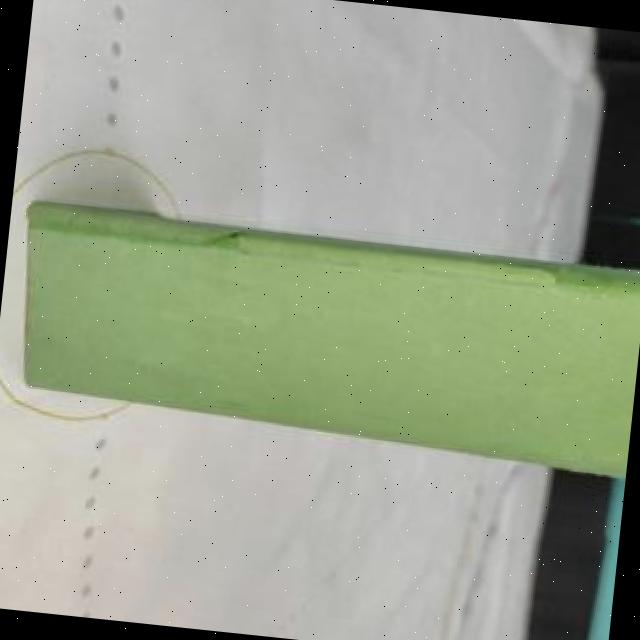greenbox: (1, 200, 640, 478)
